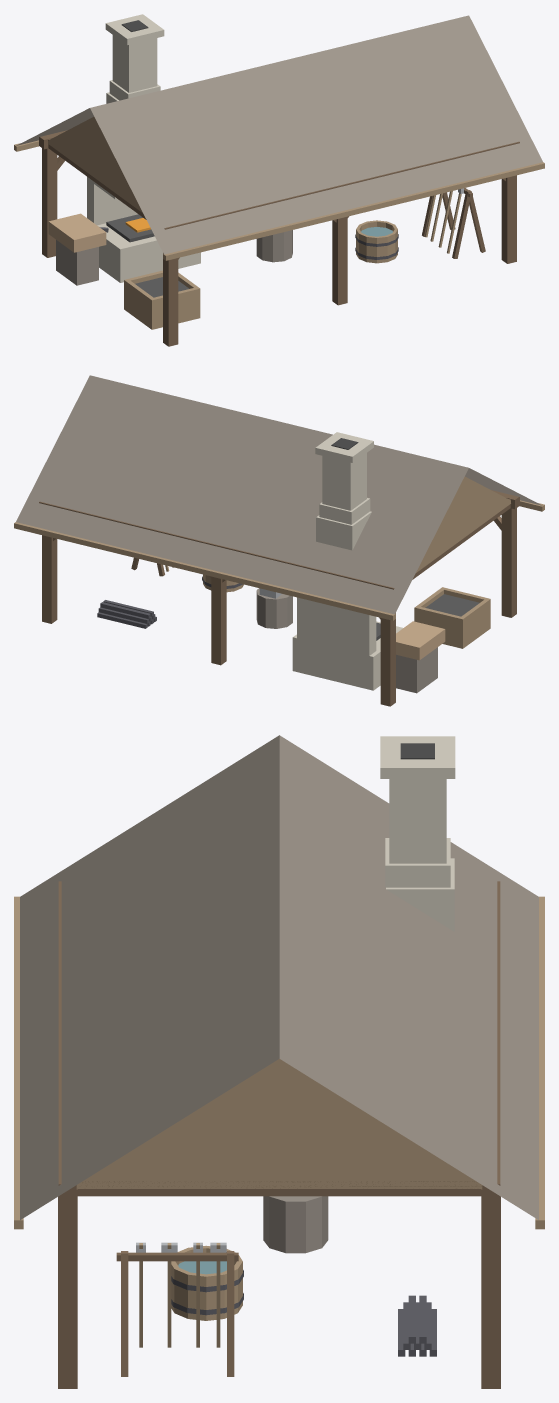
File: forge_shed.glb
3 views of the same model, one above another, from view 1: azimuth 30°, elevation 25°; view 2: azimuth 150°, elevation 25°; view 3: azimuth 270°, elevation 25° (orthographic). The views are drawn at different scales.
Visible parts, largest first — view 1: ForgeShed; view 2: ForgeShed; view 3: ForgeShed.
Boxes of the visible parts, x1,y1,x2,y2 form: ForgeShed: (14, 14, 544, 346); ForgeShed: (14, 375, 544, 706); ForgeShed: (14, 735, 544, 1388).
Bounding box in the file's own units: 9.4 × 5.43 × 6.52.
